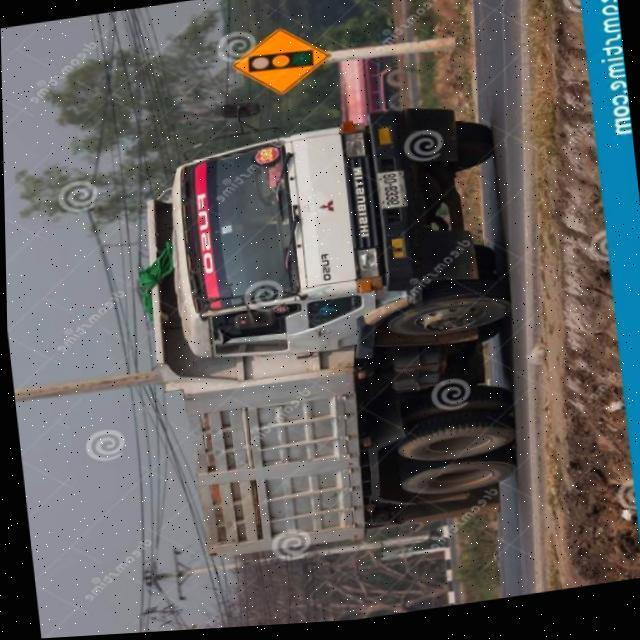truck: (114, 69, 528, 572)
